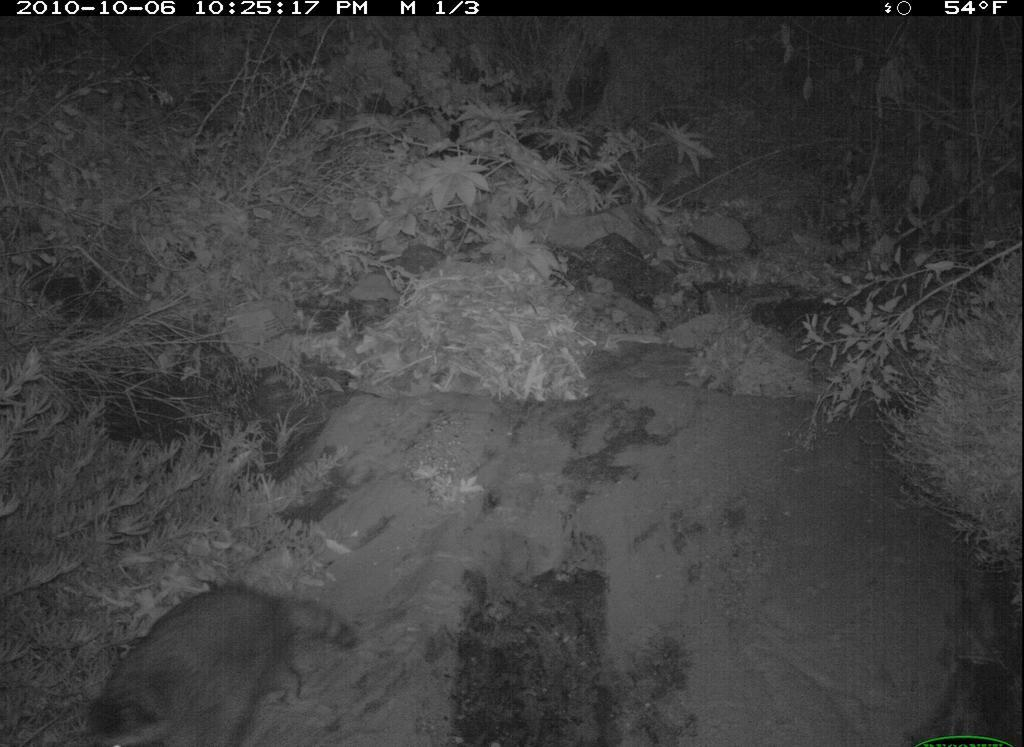raccoon: (77, 578, 367, 747)
